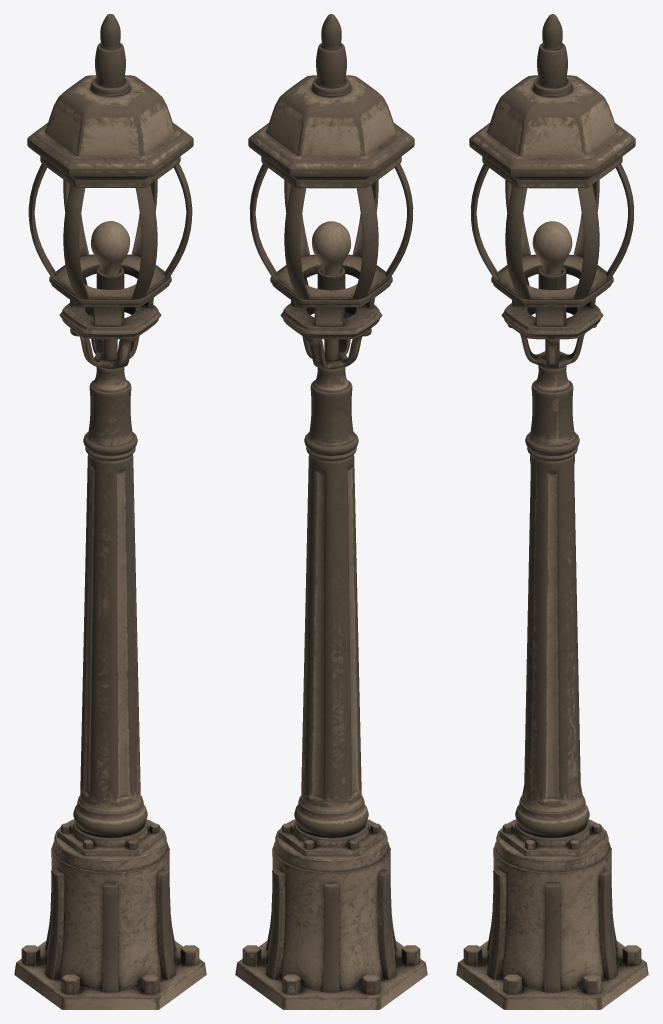
Rendered from Lampara.obj.
3 renders of one model, left to right at view 1: azimuth 30°, elevation 25°; view 2: azimuth 150°, elevation 25°; view 3: azimuth 270°, elevation 25°, orthographic.
Visible parts, largest first — view 1: street_lamp_01_Cylinder_001; view 2: street_lamp_01_Cylinder_001; view 3: street_lamp_01_Cylinder_001.
Boxes of the visible parts, x1,y1,x2,y2 form: street_lamp_01_Cylinder_001: (14,14,206,1009); street_lamp_01_Cylinder_001: (235,14,427,1009); street_lamp_01_Cylinder_001: (456,14,648,1009).
Bounding box in the file's own units: 3.19 × 20.19 × 3.66.
Materials: 1 (1 with a texture image).
